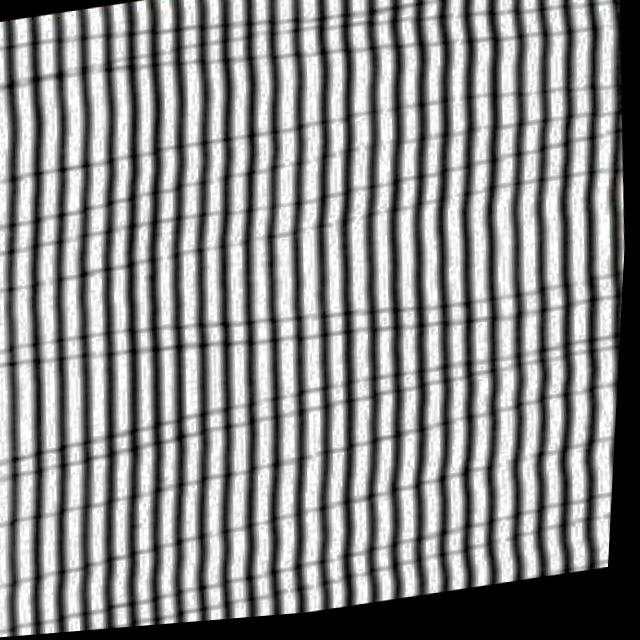Stitch: (0, 124, 630, 321)
